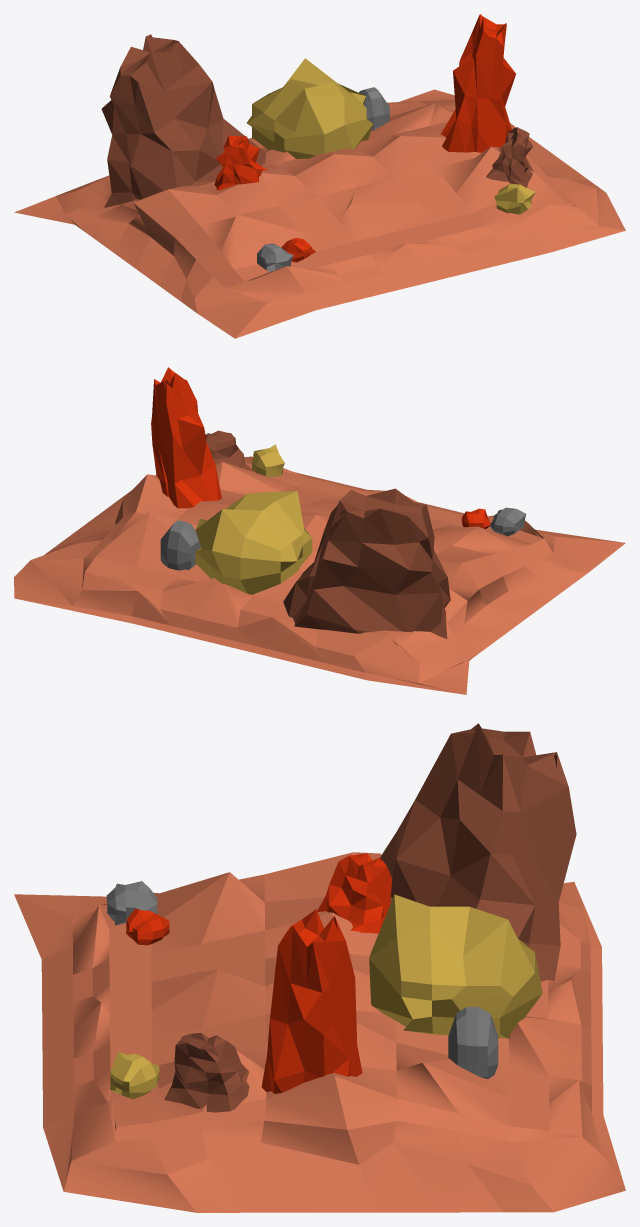
Rendered from Fire Stage Coloured.fbx.
3 renders of one model, top to bottom at view 1: azimuth 30°, elevation 25°; view 2: azimuth 150°, elevation 25°; view 3: azimuth 270°, elevation 25°, orthographic. The views are drawn at different scales.
Parts seen in each view (by area): view 1: pCube1, pCube2, pCube9, pCube7, pCube6, pCube3, pCube5, pCube10, pCube8, pCube4; view 2: pCube1, pCube2, pCube9, pCube7, pCube10, pCube3, pCube5, pCube8, pCube4; view 3: pCube1, pCube2, pCube9, pCube7, pCube3, pCube6, pCube10, pCube5, pCube8, pCube4.
Part boxes in pixels (bbox=[...]): pCube1: bbox=[14, 89, 625, 338]; pCube2: bbox=[101, 34, 265, 207]; pCube9: bbox=[247, 58, 372, 158]; pCube7: bbox=[440, 14, 515, 152]; pCube6: bbox=[214, 135, 268, 190]; pCube3: bbox=[486, 127, 533, 187]; pCube5: bbox=[494, 183, 535, 214]; pCube10: bbox=[359, 87, 389, 130]; pCube8: bbox=[257, 243, 293, 271]; pCube4: bbox=[281, 238, 315, 262]; pCube1: bbox=[14, 456, 625, 694]; pCube2: bbox=[283, 488, 450, 638]; pCube9: bbox=[195, 491, 312, 594]; pCube7: bbox=[151, 367, 221, 508]; pCube10: bbox=[160, 520, 200, 570]; pCube3: bbox=[205, 430, 254, 471]; pCube5: bbox=[252, 444, 284, 477]; pCube8: bbox=[490, 507, 526, 536]; pCube4: bbox=[461, 508, 490, 528]; pCube1: bbox=[14, 852, 625, 1212]; pCube2: bbox=[380, 723, 576, 981]; pCube9: bbox=[369, 894, 542, 1038]; pCube7: bbox=[261, 909, 362, 1093]; pCube3: bbox=[164, 1033, 249, 1112]; pCube6: bbox=[317, 853, 392, 933]; pCube10: bbox=[448, 1007, 498, 1078]; pCube5: bbox=[110, 1051, 159, 1099]; pCube8: bbox=[106, 881, 157, 925]; pCube4: bbox=[126, 908, 169, 945].
Bounding box in the file's own units: 19.77 × 6.98 × 15.39.
